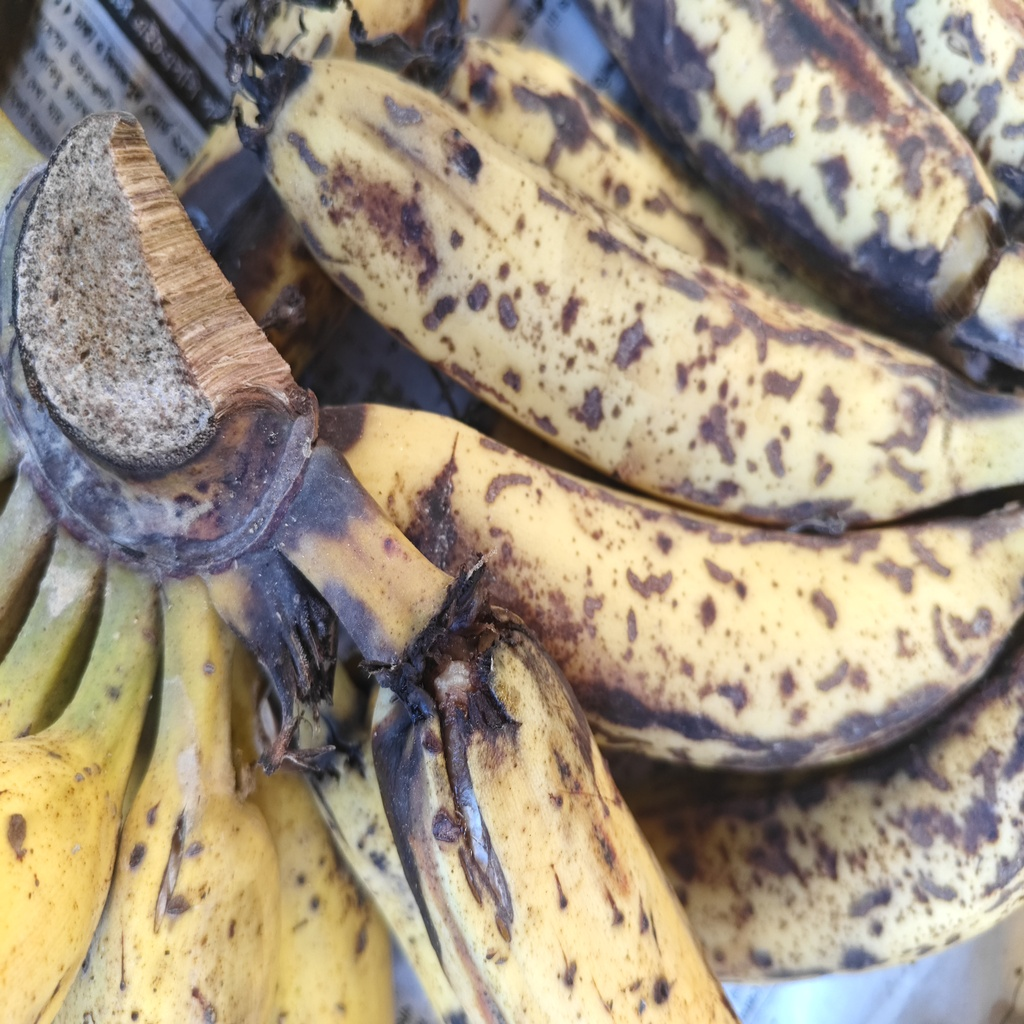unhealthy: (268, 46, 983, 524), (342, 405, 1018, 766)
